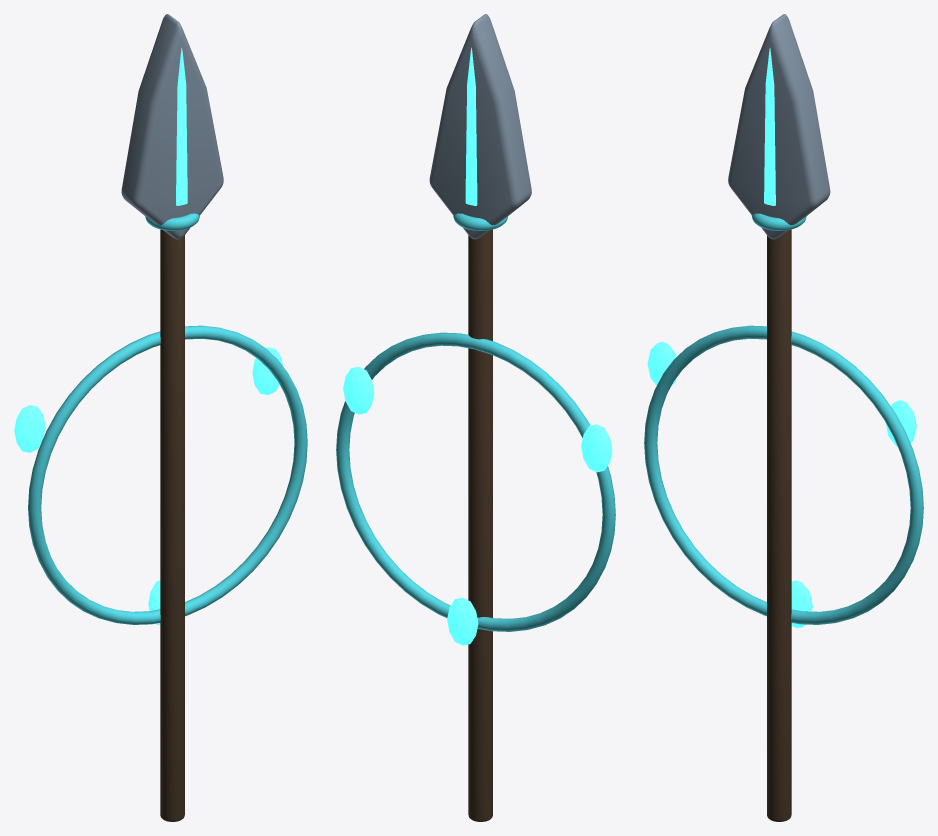
File: spear_v2.glb
3 renders of one model, left to right at view 1: azimuth 30°, elevation 25°; view 2: azimuth 150°, elevation 25°; view 3: azimuth 330°, elevation 25°, orthographic.
Visible parts, largest first — view 1: SHAFT_SECONDARY, SPEAR_HEAD_PRIMARY, VARIANT_HALO_ACCENT, SPEAR_RUNE_EMISSIVE, VARIANT_GEM_EMISSIVE.001, VARIANT_GEM_EMISSIVE, SPEAR_COLLAR_ACCENT; view 2: SHAFT_SECONDARY, SPEAR_HEAD_PRIMARY, VARIANT_HALO_ACCENT, SPEAR_RUNE_EMISSIVE, VARIANT_GEM_EMISSIVE, VARIANT_GEM_EMISSIVE.001, VARIANT_GEM_EMISSIVE.002, SPEAR_COLLAR_ACCENT; view 3: SHAFT_SECONDARY, SPEAR_HEAD_PRIMARY, VARIANT_HALO_ACCENT, SPEAR_RUNE_EMISSIVE, VARIANT_GEM_EMISSIVE.001, VARIANT_GEM_EMISSIVE, VARIANT_GEM_EMISSIVE.002, SPEAR_COLLAR_ACCENT.
Boxes of the visible parts, x1,y1,x2,y2 form: SHAFT_SECONDARY: (160,229,184,821); SPEAR_HEAD_PRIMARY: (121,14,223,239); VARIANT_HALO_ACCENT: (28,325,307,624); SPEAR_RUNE_EMISSIVE: (176,48,187,205); VARIANT_GEM_EMISSIVE.001: (14,405,45,452); VARIANT_GEM_EMISSIVE: (252,347,282,395); SPEAR_COLLAR_ACCENT: (145,213,199,230); SHAFT_SECONDARY: (468,229,492,821); SPEAR_HEAD_PRIMARY: (429,14,531,239); VARIANT_HALO_ACCENT: (336,332,615,631); SPEAR_RUNE_EMISSIVE: (465,47,477,205); VARIANT_GEM_EMISSIVE: (343,366,374,414); VARIANT_GEM_EMISSIVE.001: (581,424,612,472); VARIANT_GEM_EMISSIVE.002: (447,597,478,645); SPEAR_COLLAR_ACCENT: (453,213,507,230); SHAFT_SECONDARY: (767,229,791,821); SPEAR_HEAD_PRIMARY: (728,14,830,239); VARIANT_HALO_ACCENT: (644,325,923,624); SPEAR_RUNE_EMISSIVE: (764,48,775,205); VARIANT_GEM_EMISSIVE.001: (647,342,676,386); VARIANT_GEM_EMISSIVE: (886,400,916,446); VARIANT_GEM_EMISSIVE.002: (791,580,812,628); SPEAR_COLLAR_ACCENT: (751,213,806,230).
Bounding box in the file's own units: 1.72 × 4.65 × 0.34.
